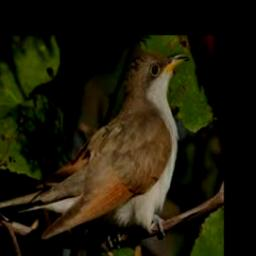Cuckoo: (38, 51, 189, 240)
